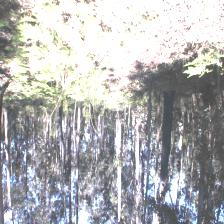trunktrack_idkeyframe: (160, 91, 175, 170), (146, 89, 152, 167)
